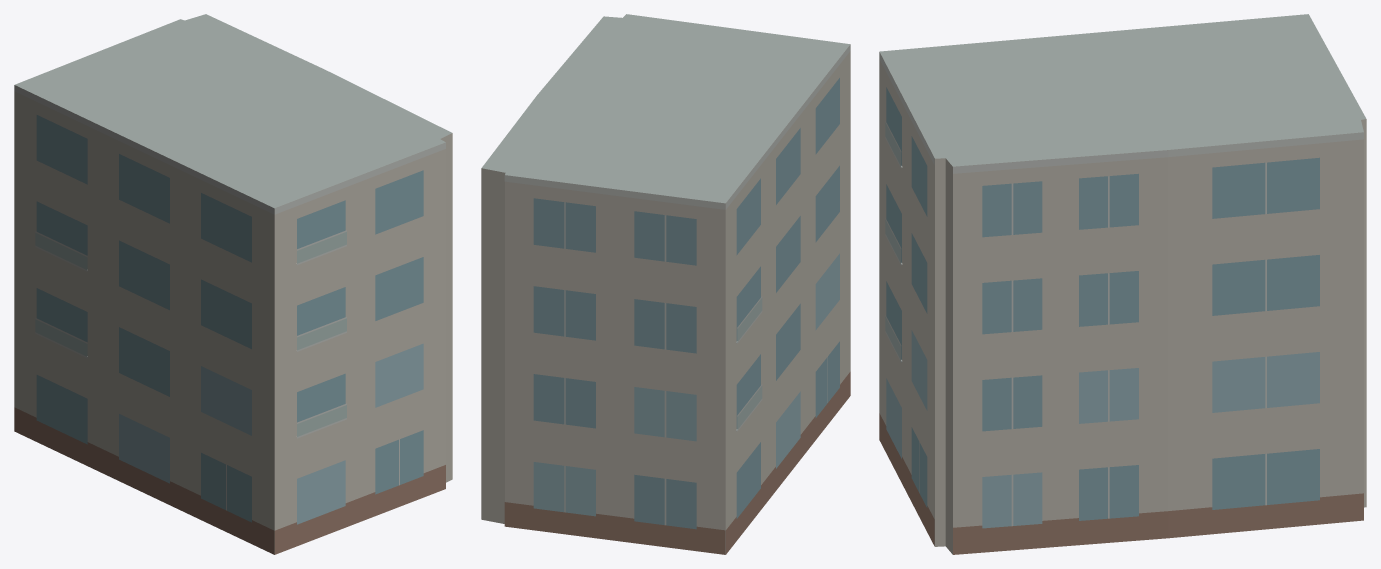
File: survey-upis-32627969.glb
3 renders of one model, left to right at view 1: azimuth 30°, elevation 25°; view 2: azimuth 150°, elevation 25°; view 3: azimuth 270°, elevation 25°, orthographic. The views are drawn at different scales.
Parts seen in each view (by area): view 1: survey-upis-32627969.tmp; view 2: survey-upis-32627969.tmp; view 3: survey-upis-32627969.tmp.
Part boxes in pixels (box(x1,y1,x2,y2)): survey-upis-32627969.tmp: box(14, 14, 452, 554); survey-upis-32627969.tmp: box(481, 14, 850, 554); survey-upis-32627969.tmp: box(879, 14, 1366, 554).
Size of the model in its own units: 11.14 by 13.2 by 15.02.
